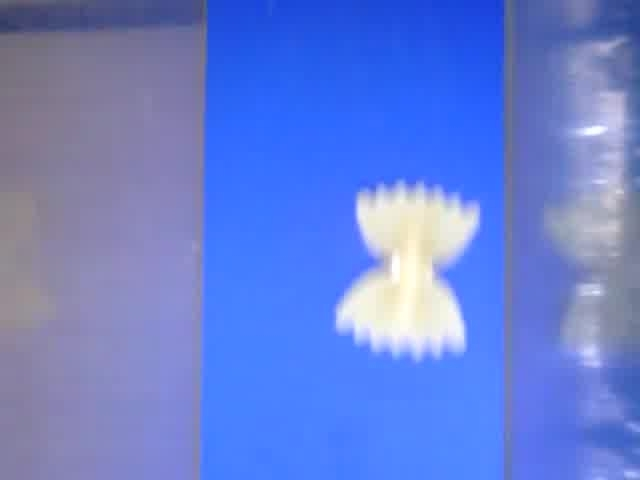farfalle: (336, 184, 481, 359)
